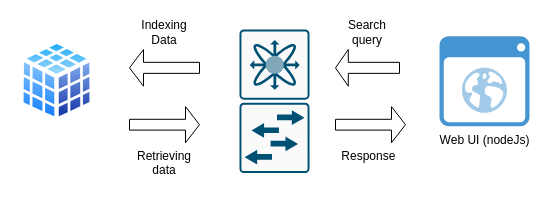
This 547x211 diagram has some shape labels left out. Each missing label, with the centre of its shape:
"Elastic Search Database" belongs at [56,80].
"Python Middleware" belongs at [274,100].
